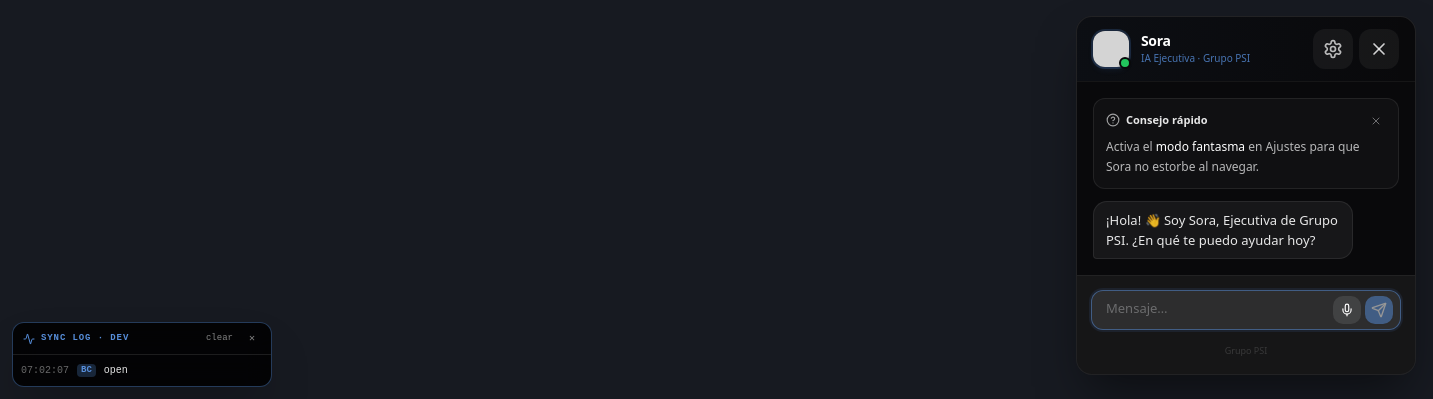
Test: ChatWidget cross-tab sync › updates the proximity radius when another tab broadcasts { type: 'radius', value }
Check: the text box with placeholder "Mensaje…" is shown, box [1091, 290, 1401, 330]
Click the button named "abrir ajustes". click: (1333, 49)
box: [1313, 29, 1353, 69]
(page scrolled)
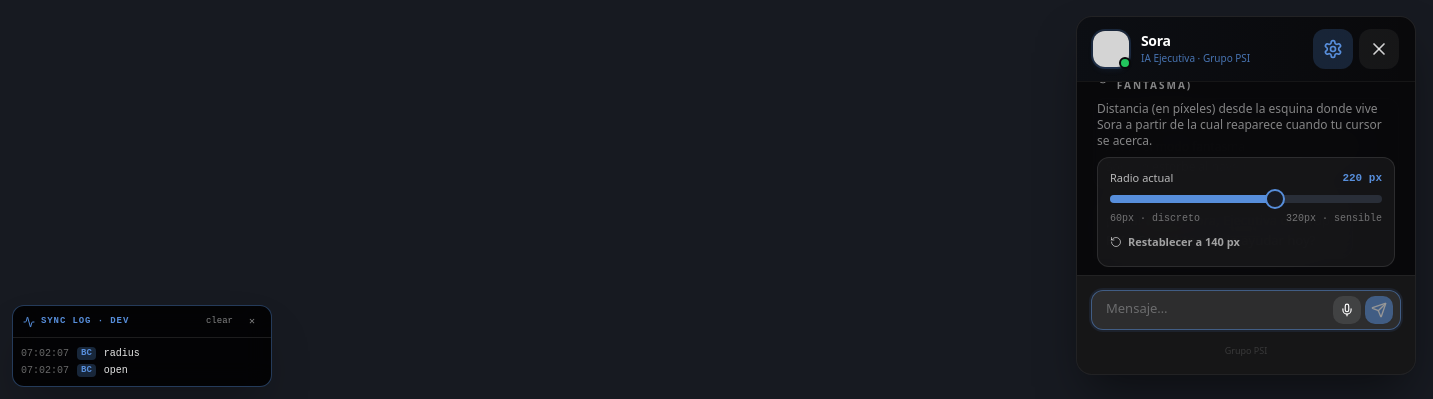
Check: the text "220 px" is shown, box [1342, 170, 1382, 187]
